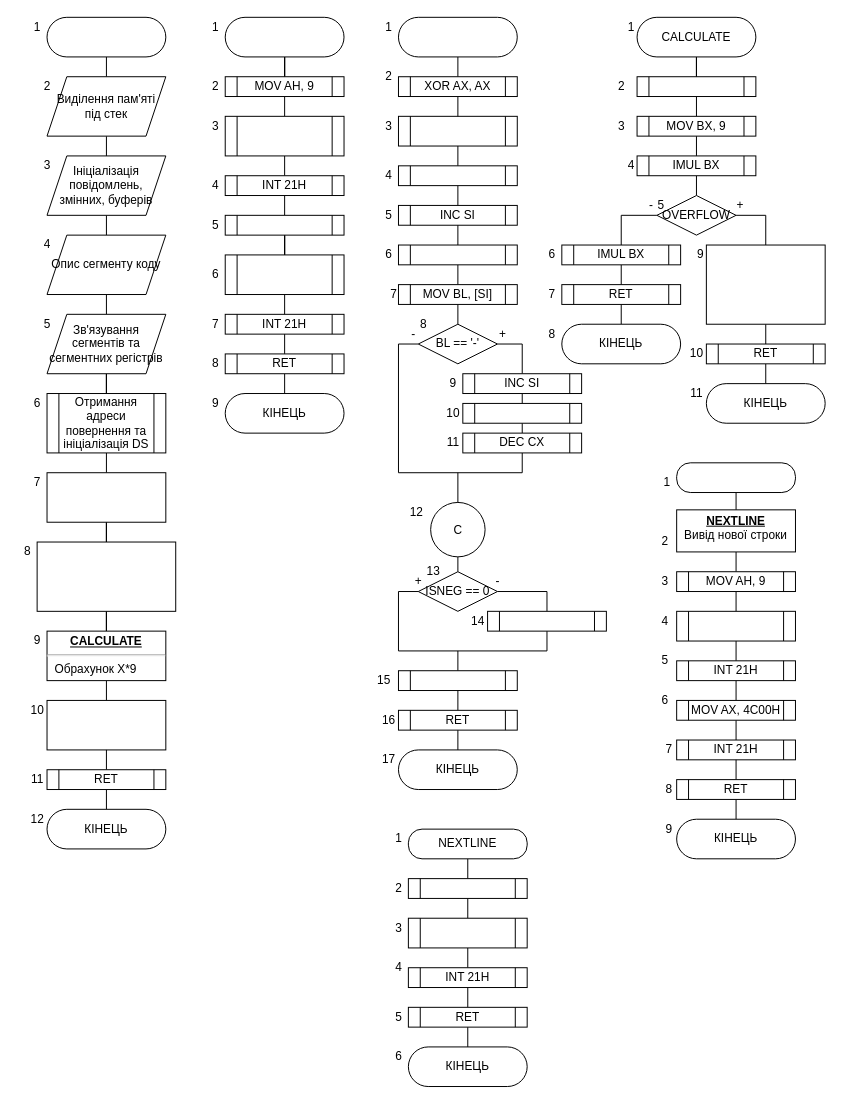
Image size: 842x1104. Some labels were removed from this diagram. Each missing label, with the centre of its shape:
"CHECKNUM" belongs at (x=457, y=36).
"CHECKNUM Перевірка на коректне введення X" belongs at (x=106, y=576).
"ERROR" belongs at (x=735, y=477).
"ERROR Виведення помилки та завершення програми" belongs at (x=765, y=284).
"INPUT" belongs at (x=284, y=36).
"INPUT Введення X" belongs at (x=106, y=497).
"LEA DX, BUFFER" belongs at (x=284, y=274).
"LEA DX, MSG_ERR" belongs at (x=735, y=625).
"LEA DX, MSG_INPUT" belongs at (x=284, y=135).
"LEA SI, BUFFER_X+1" belongs at (x=457, y=130).
"MOV AH, 10" belongs at (x=284, y=224).
"MOV AH, 2" belongs at (x=467, y=888).
"MOV AX, NUM" belongs at (x=696, y=86).
"MOV CL, [SI]" belongs at (x=457, y=175).
"MOV DL, 10" belongs at (x=467, y=932).
"MOV ISNEG, 1" belongs at (x=522, y=412).
"MOV NUM, AX" belongs at (x=457, y=680).
"NEG AX" belongs at (x=546, y=620).
"OUTPUT Вивід результату" belongs at (x=106, y=724).
"XOR BX, BX" belongs at (x=457, y=254).
"ПОЧАТОК" belongs at (x=106, y=36).
